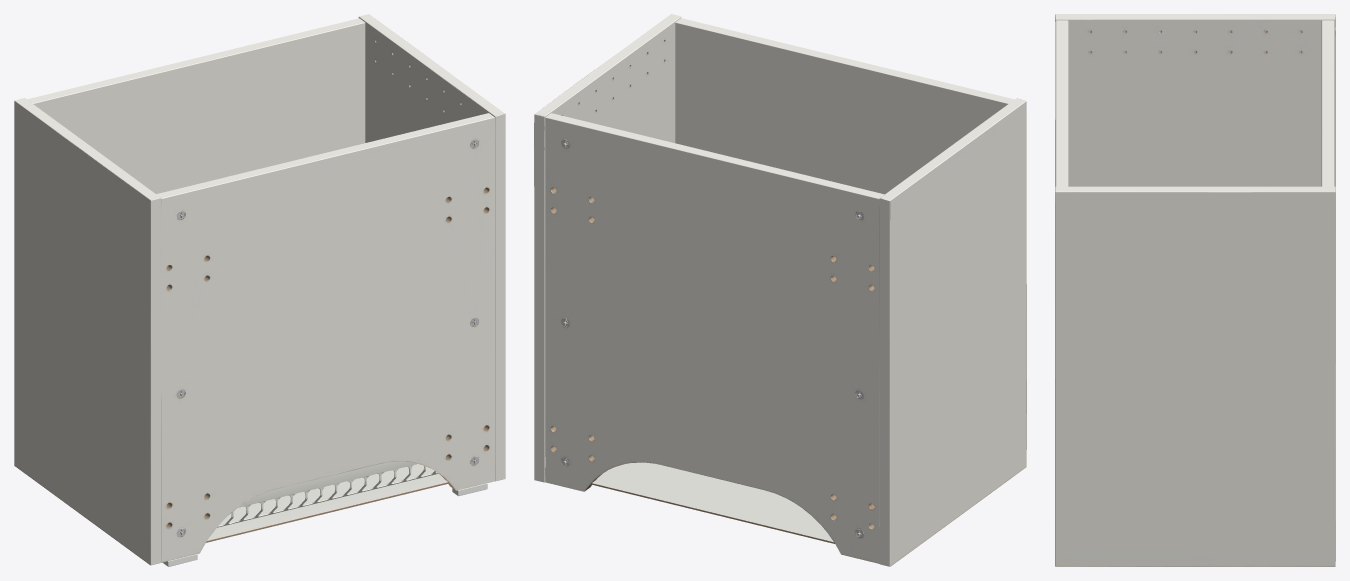
File: metod_szafka_scienna_z_wentylacja_40205537.glb
3 views of the same model, side by side, from view 1: azimuth 30°, elevation 25°; view 2: azimuth 150°, elevation 25°; view 3: azimuth 270°, elevation 25° (orthographic). The views are drawn at different scales.
Visible parts, largest first — view 1: metod_szafka_scienna_z_wentylacja_40205537; view 2: metod_szafka_scienna_z_wentylacja_40205537; view 3: metod_szafka_scienna_z_wentylacja_40205537.
Boxes of the visible parts, bbox=[...] form: metod_szafka_scienna_z_wentylacja_40205537: bbox=[14, 14, 505, 566]; metod_szafka_scienna_z_wentylacja_40205537: bbox=[534, 14, 1026, 566]; metod_szafka_scienna_z_wentylacja_40205537: bbox=[1055, 14, 1335, 566].
Size of the model in its own units: 0.6001 by 0.6 by 0.4.
Materials: 1 (1 with a texture image).
